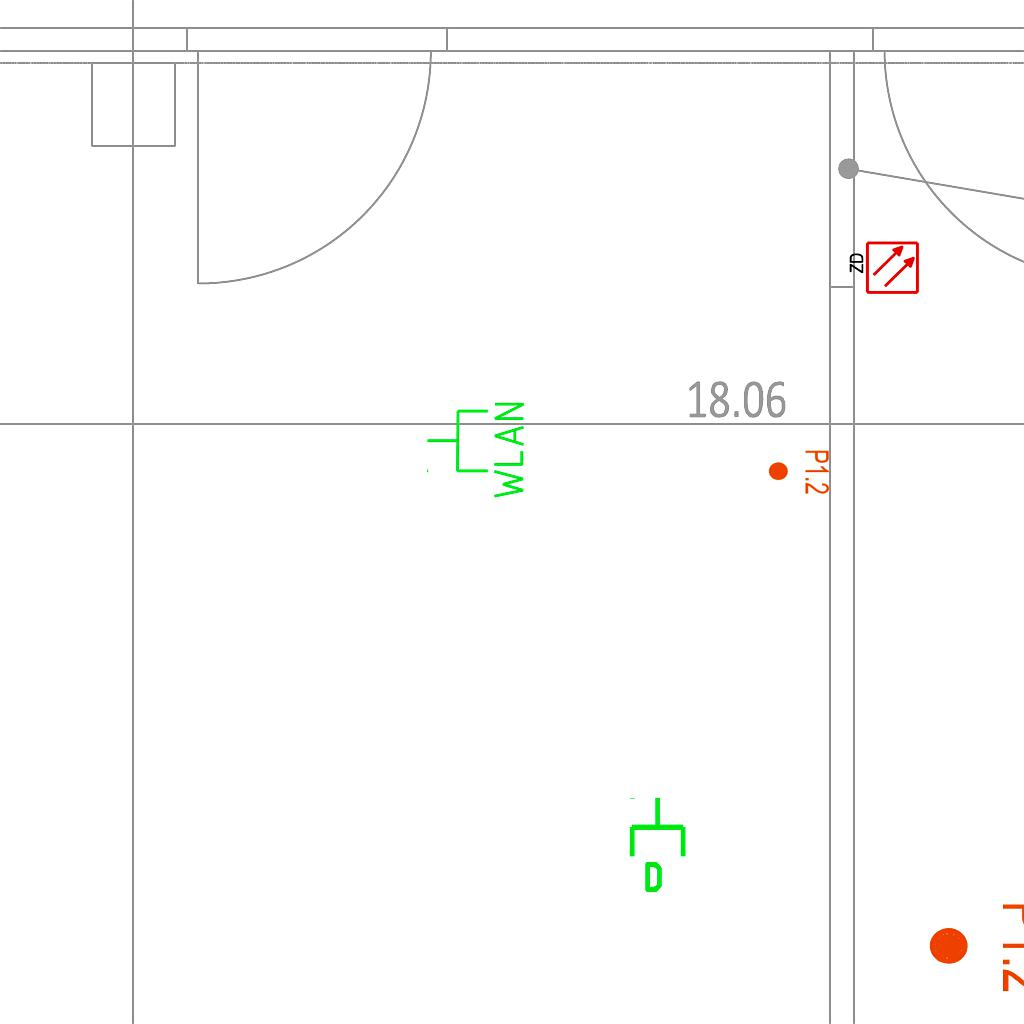Datenanschluss_einfach: (625, 795, 694, 895)
Downlight_LED_Einbauleuchten_Flur: (926, 901, 1024, 994), (767, 449, 831, 495)
WLAN: (424, 398, 528, 503)
ZD_Melder_in_Zwischendecke_mit_Revisionsoeffnung_mind_40_x_40_cm: (846, 240, 920, 297)
